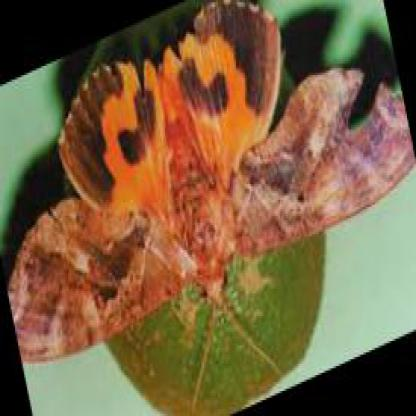fruit sucking moth: (5, 2, 414, 365)
